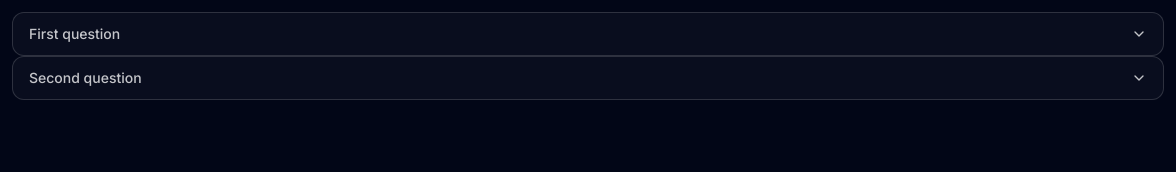
Test: Accordion (FAQ, Transit pages) › keeps collapsed answers in the HTML, hidden, instead of mounting them on click
Click the button "Second question".
click(85, 78)  # box [12,56,1164,100]
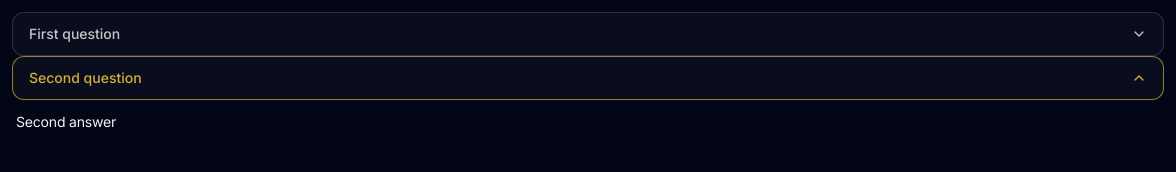
Now the button "Second question" is expanded, box [12,56,1164,100]
